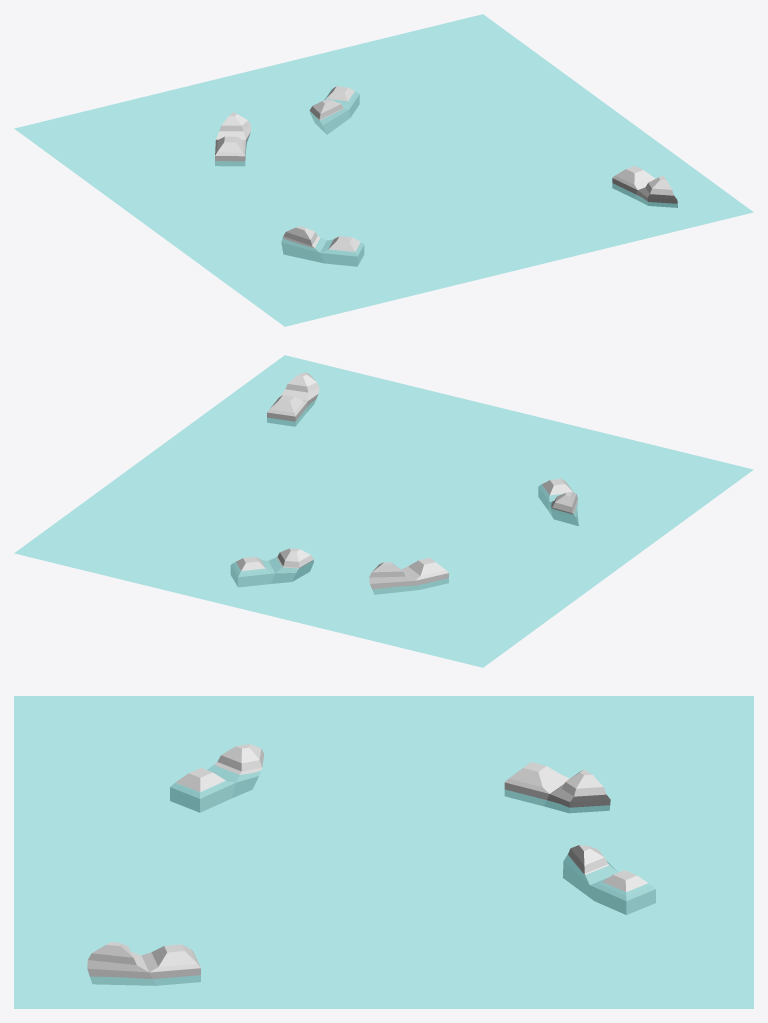
Rendered from World_BlokOut.fbx.
3 views of the same model, one above another, from view 1: azimuth 30°, elevation 25°; view 2: azimuth 150°, elevation 25°; view 3: azimuth 270°, elevation 25° (orthographic). The views are drawn at different scales.
Parts seen in each view (by area): view 1: Plane, Cube.002, Cube.003, Cube, Cube.001; view 2: Plane, Cube.001, Cube, Cube.003, Cube.002; view 3: Plane, Cube.003, Cube.002, Cube.001, Cube.
Boxes of the visible parts, x1,y1,x2,y2 form: Plane: (14,14,753,326); Cube.002: (281,226,363,266); Cube.003: (612,166,677,207); Cube: (215,112,250,165); Cube.001: (309,86,359,134); Plane: (14,355,753,667); Cube.001: (231,548,313,586); Cube: (369,558,448,594); Cube.003: (267,372,319,426); Cube.002: (538,478,578,525); Plane: (14,696,753,1008); Cube.003: (87,942,200,985); Cube.002: (170,744,264,812); Cube.001: (563,845,655,914); Cube: (504,762,610,812).
Size of the model in its own units: 21929 by 1570 by 21929.
